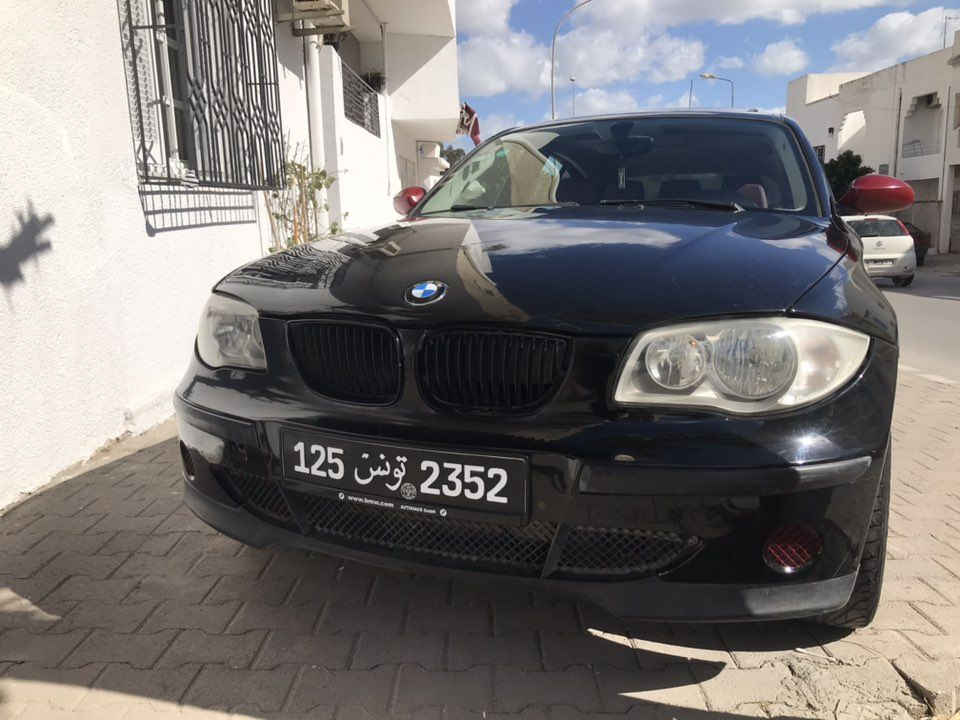LP: (279, 429, 531, 511)
